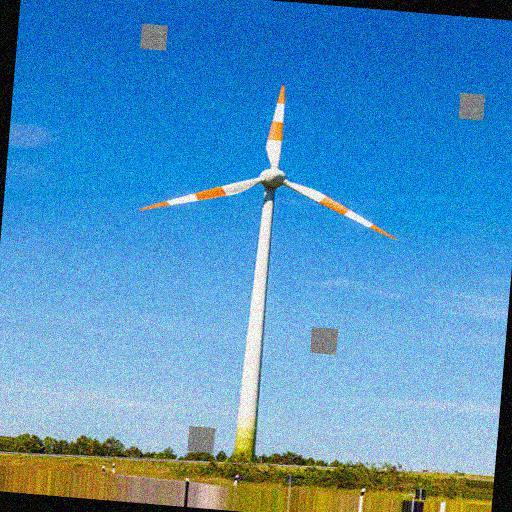wind turbine: (141, 84, 401, 457)
